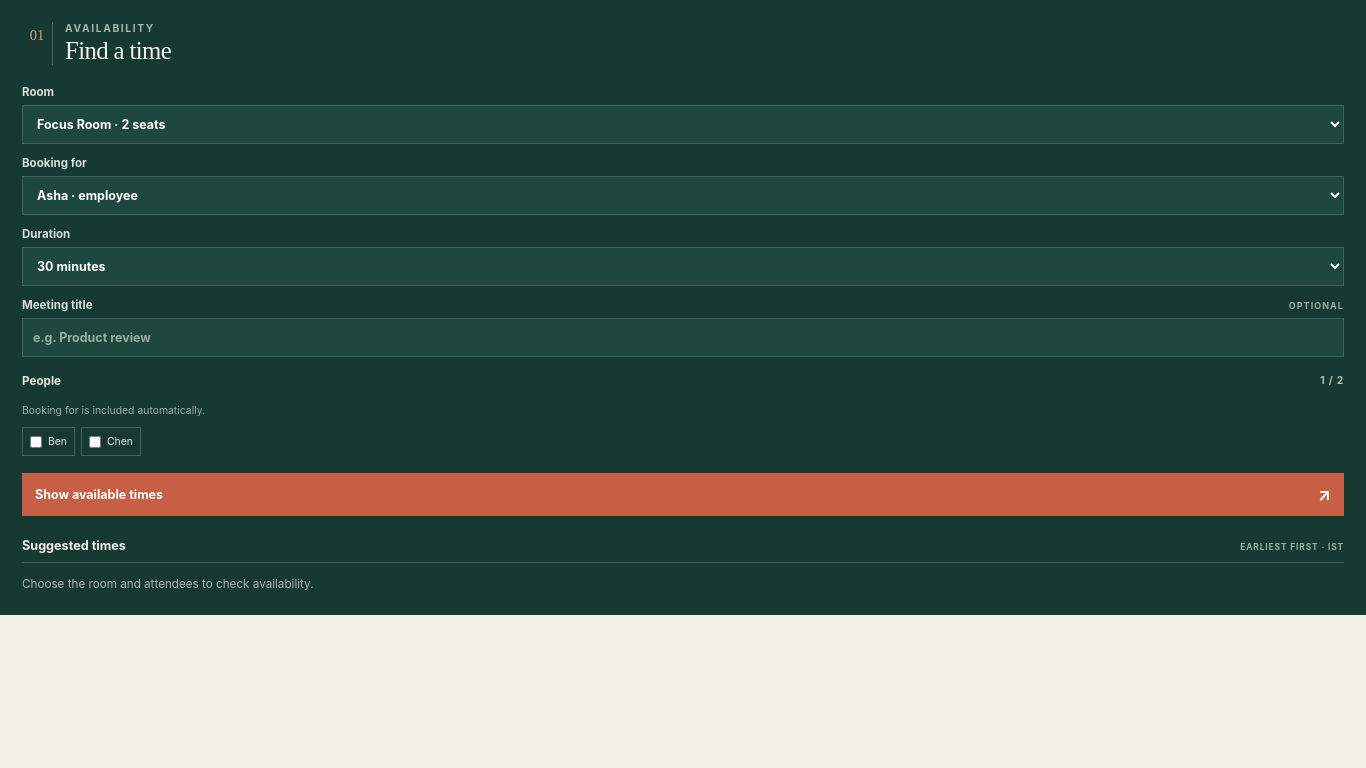
Test: slot finder › limits attendee selection by room capacity and books a suggested slot
The image size is (1366, 768).
Expected: the button "Show available times ↗" is shown, x1=22 y1=473 x2=1344 y2=516
Click the checkbox labelled "Ben" at x=36, y=442, box x1=30 y1=436 x2=42 y2=448
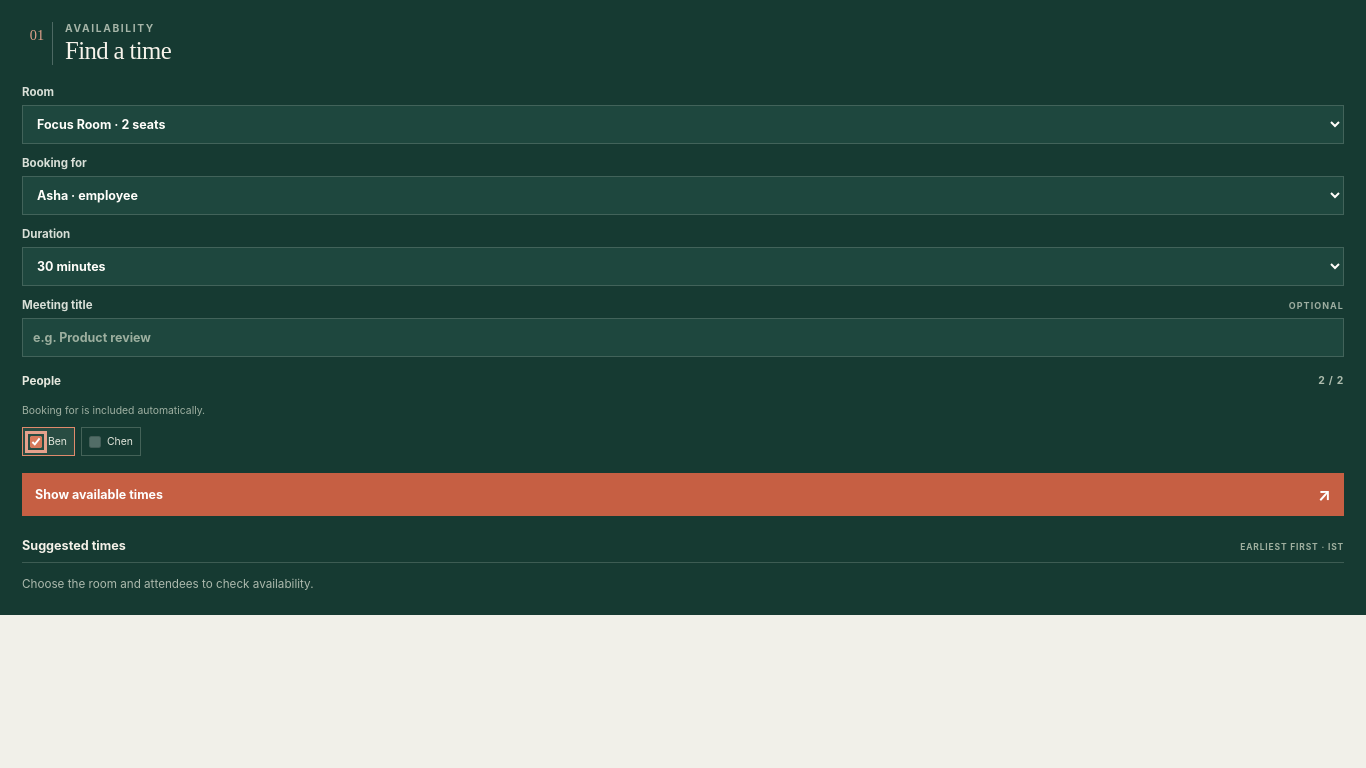
Expected: the checkbox labelled "Chen" is disabled, x1=89 y1=436 x2=101 y2=448
Click the button "Show available times ↗" at x=99, y=494, box x1=22 y1=473 x2=1344 y2=516
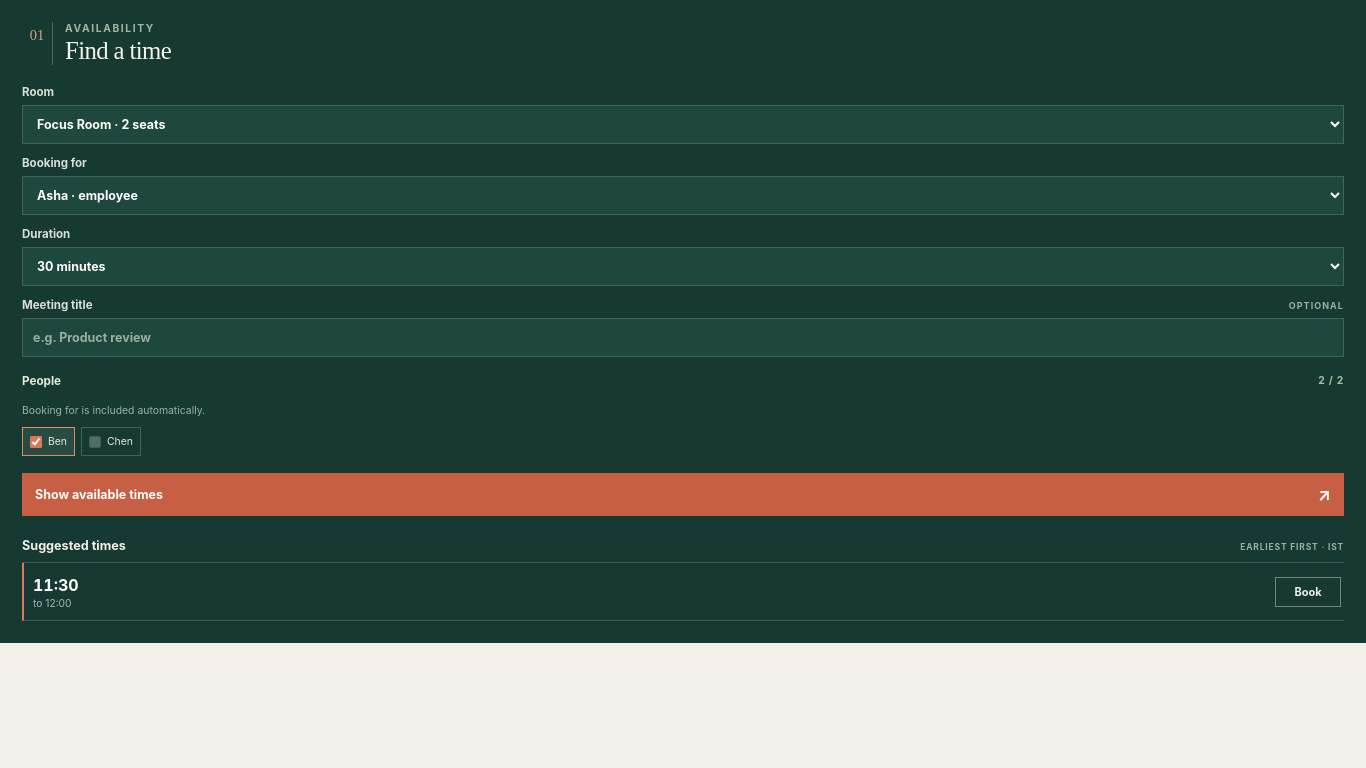
Expected: the button "Book" is shown
Click the button "Book" at x=1308, y=592, box x1=1275 y1=576 x2=1341 y2=606
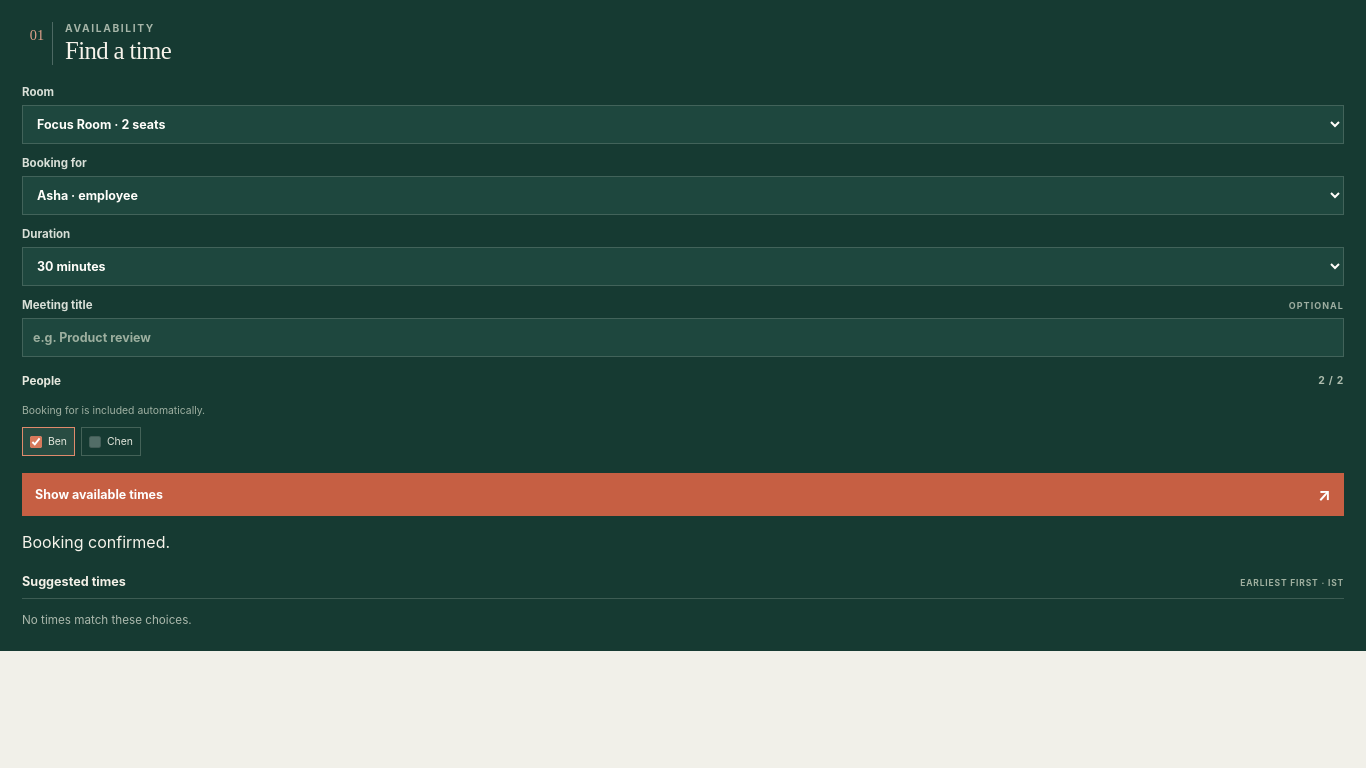
Expected: the text "Booking confirmed." is shown, x1=22 y1=532 x2=170 y2=552
